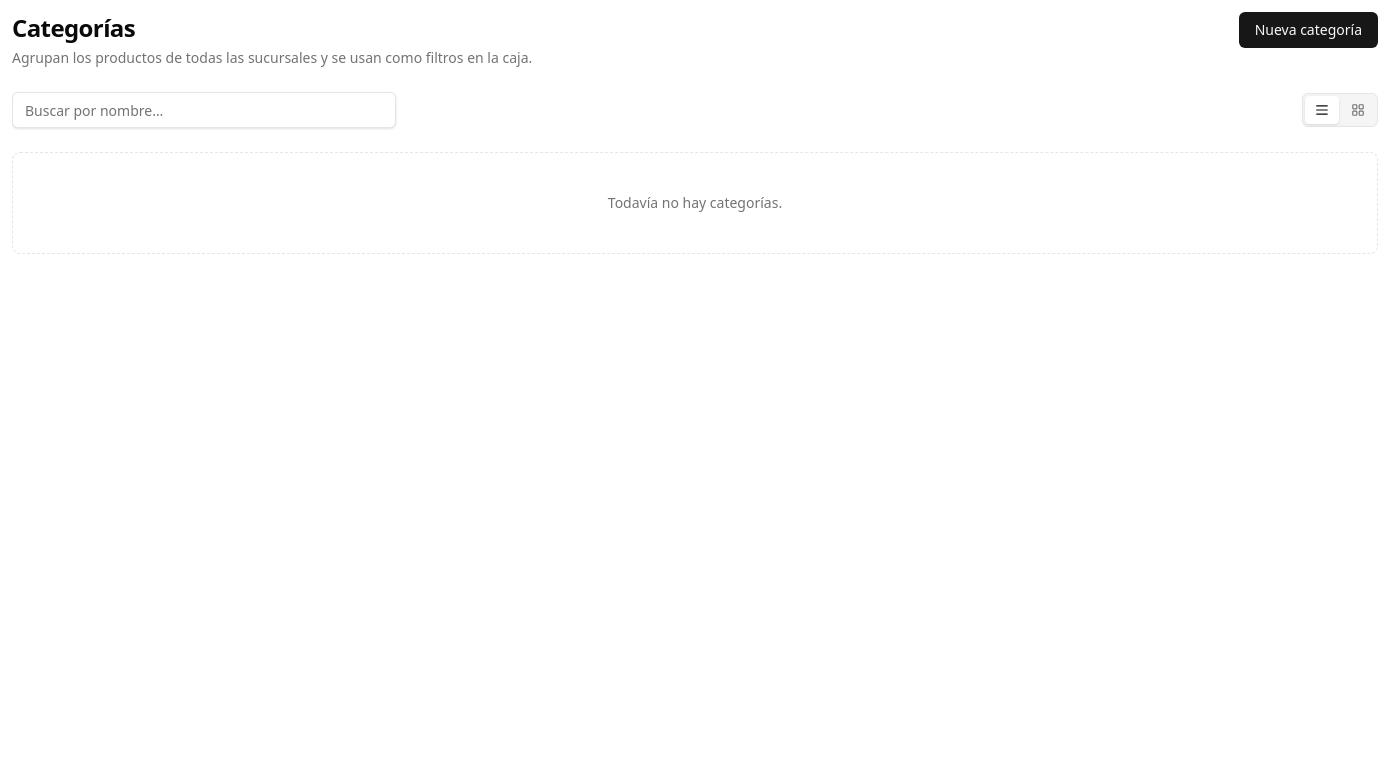
it: CategoriesScreen › creates a category with a name and the chosen icon, then lists it
This screenshot has width=1390, height=780.
expect the text "Todavía no hay categorías." is shown: met, box 12,152 -> 1378,254
Click the button "Nueva categoría": (1308, 30) 1239,12 -> 1378,48
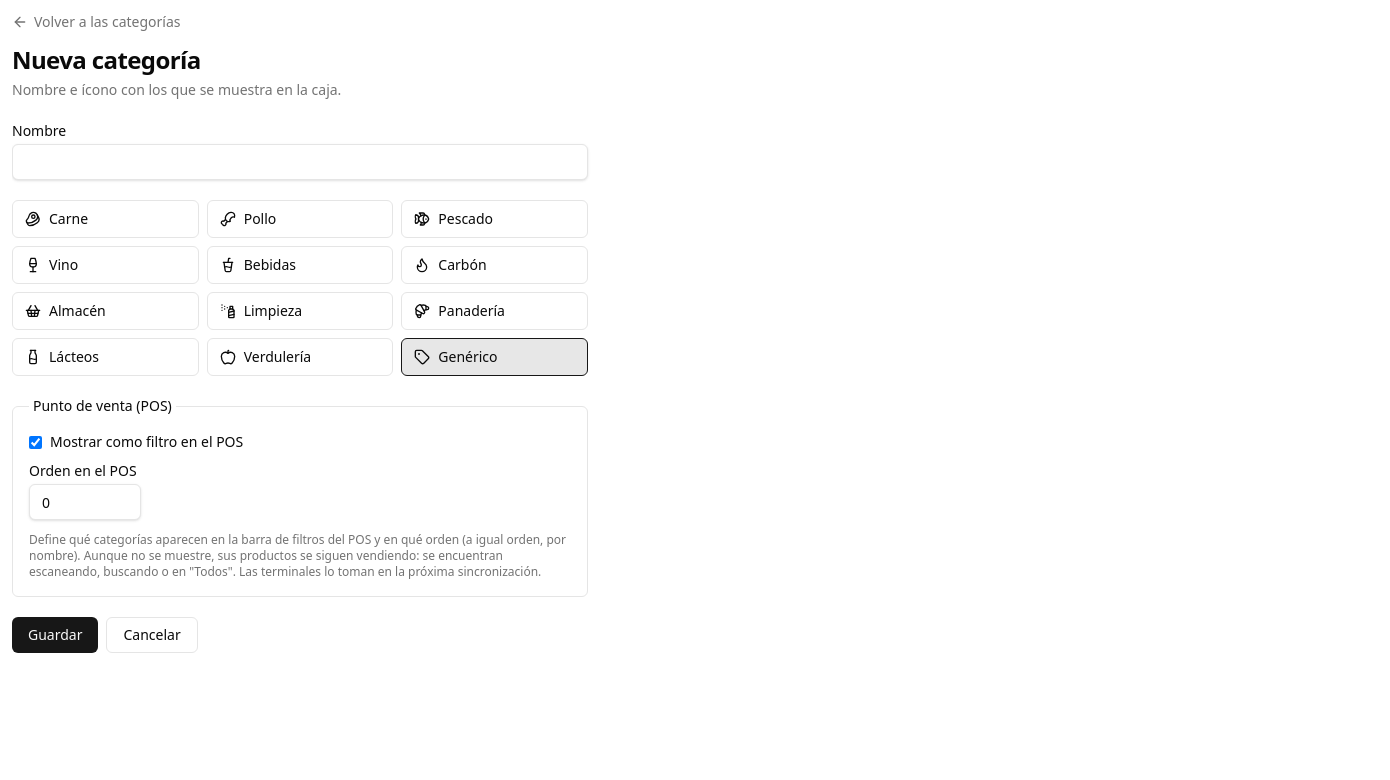
In the field labelled "Nombre": (300, 162) 12,144 -> 588,180, type "Vinos"
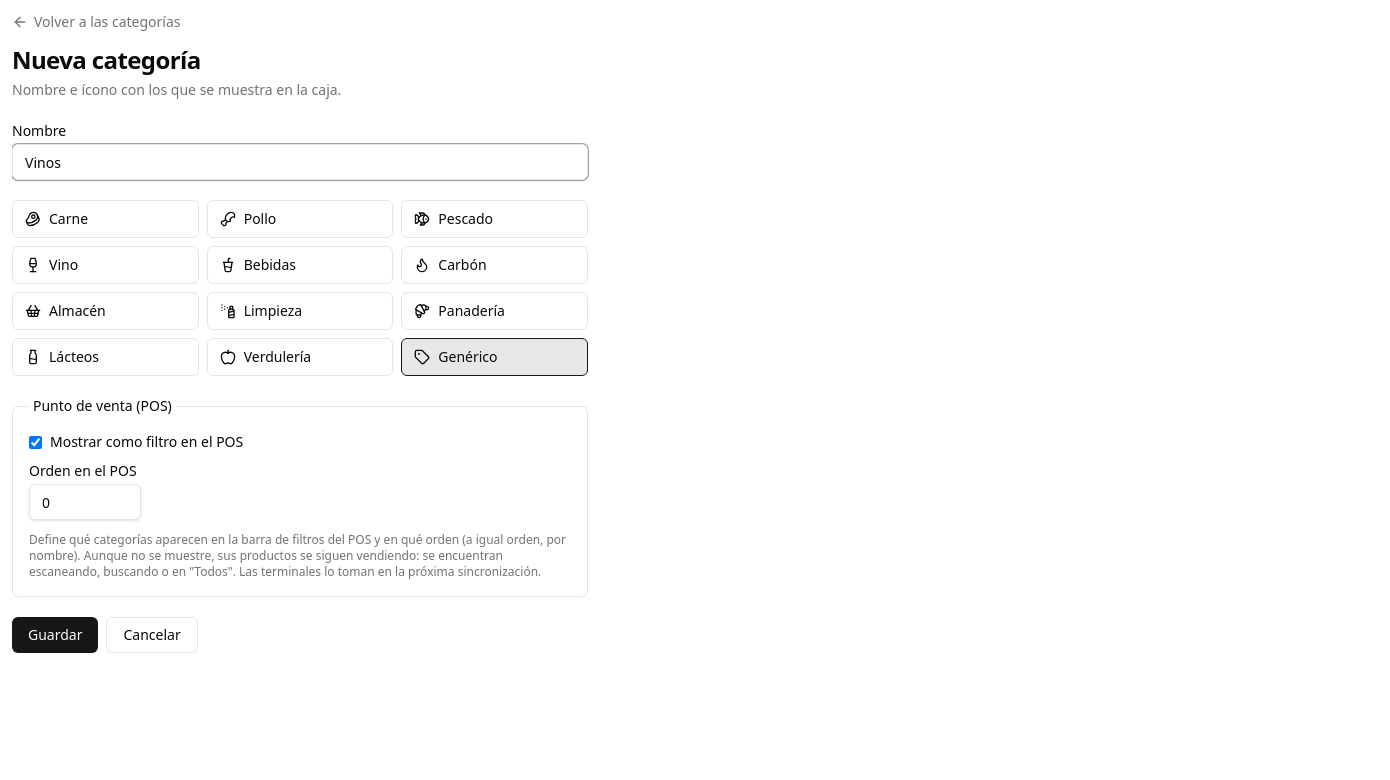
Click the radio button labelled "Vino": (105, 265) 12,246 -> 199,284
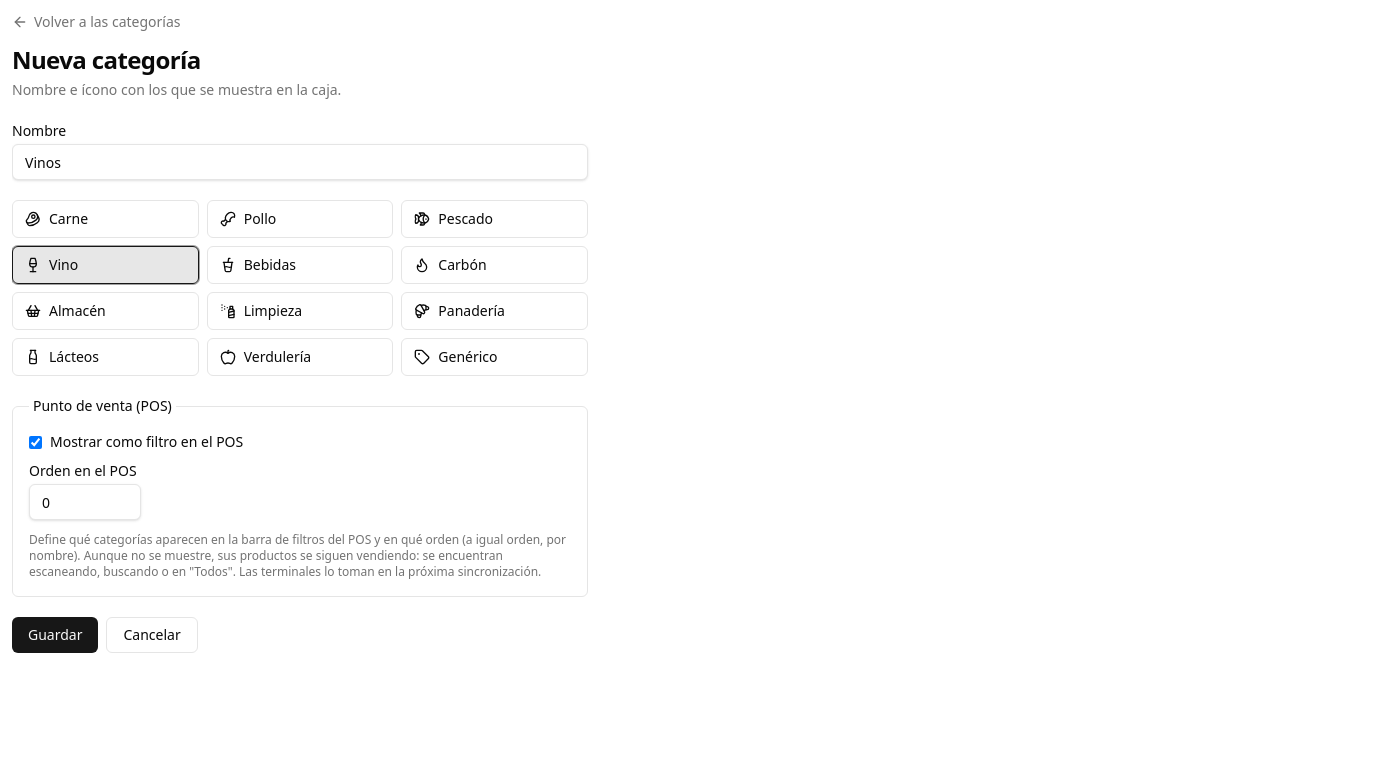
Click the button "Guardar": (55, 635) 12,617 -> 98,653
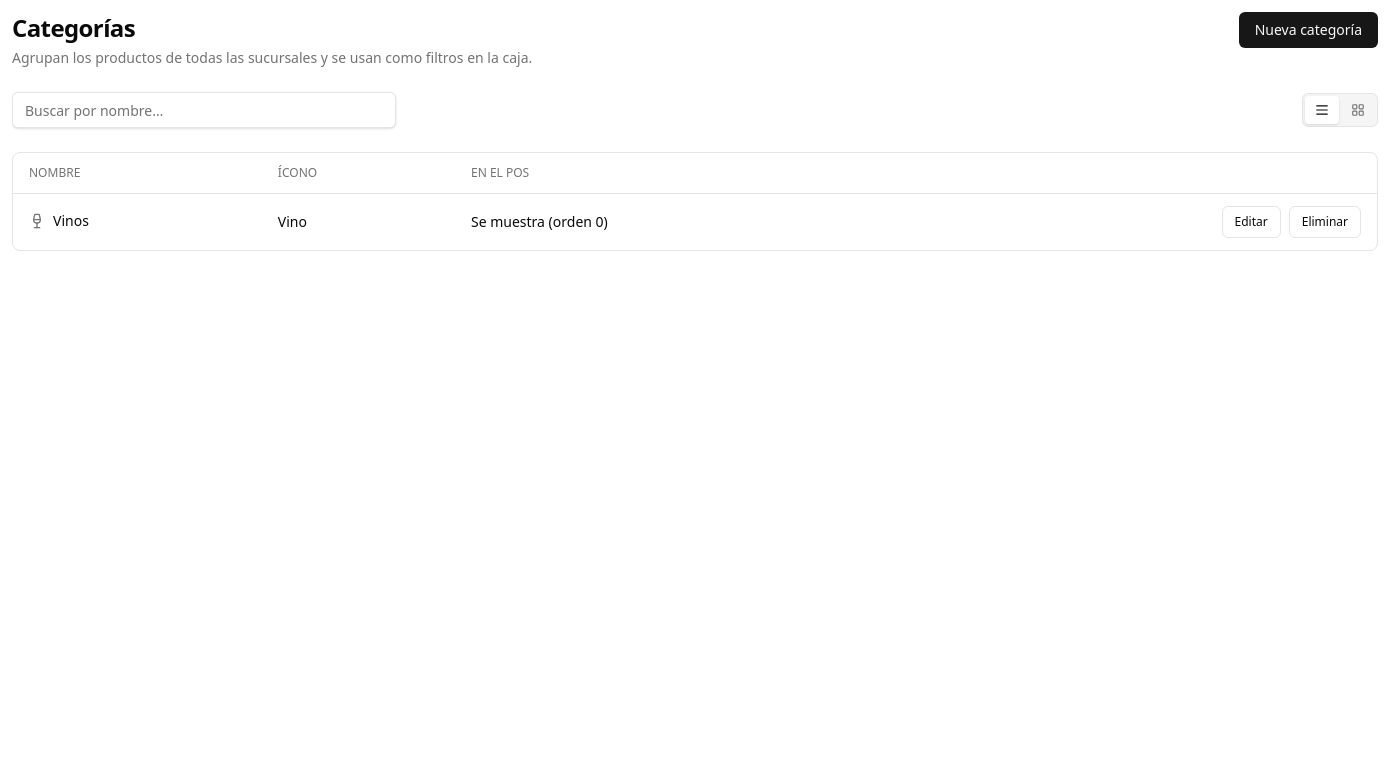
expect the text "Vinos" is shown: met, box 53,210 -> 89,230
